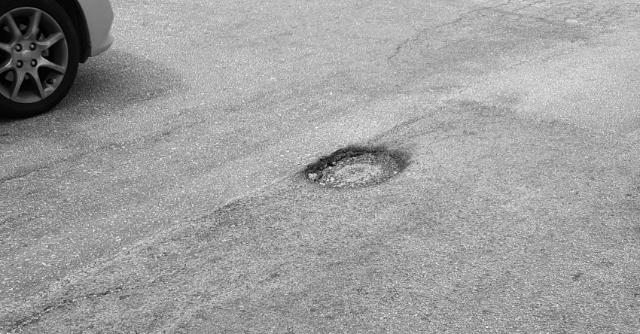Pothole: (304, 146, 410, 190)
